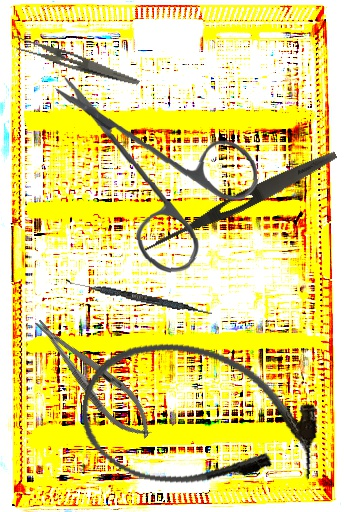Cannula: (70, 326, 330, 512)
Dressing Forceps: (141, 145, 340, 260), (7, 32, 144, 87)
Iris Scissors: (54, 65, 263, 280)
Needle Holder: (23, 306, 164, 450)
Spatula Surgical: (64, 278, 214, 317)
